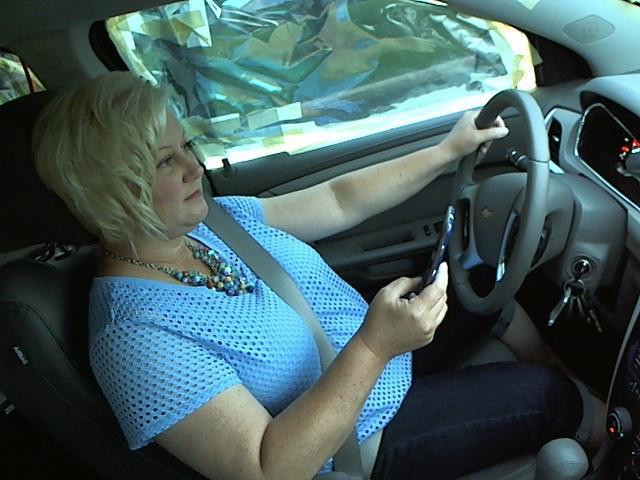PhoneUse: (410, 201, 466, 303)
